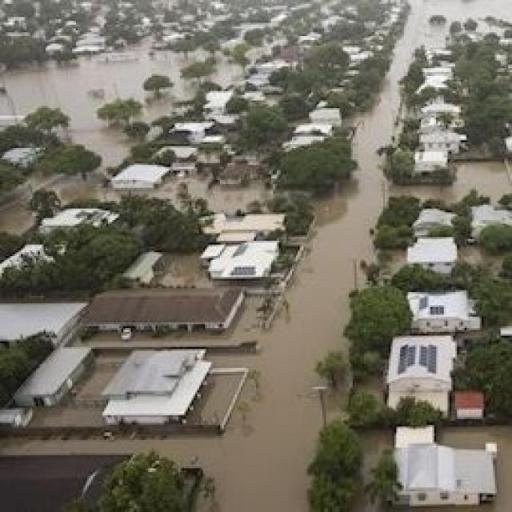flood: (0, 0, 512, 512), (0, 34, 211, 167), (0, 172, 102, 236), (439, 426, 512, 512), (134, 297, 264, 340), (385, 161, 512, 204), (178, 172, 274, 213), (350, 428, 395, 512), (133, 72, 200, 124), (95, 172, 182, 210), (186, 374, 242, 425), (75, 357, 124, 397), (159, 254, 209, 286), (458, 242, 504, 274), (30, 409, 103, 427), (210, 51, 244, 89), (208, 353, 257, 368), (390, 250, 406, 276), (90, 333, 120, 340)
house: (100, 348, 230, 427), (88, 284, 248, 333), (393, 438, 497, 508), (384, 332, 454, 418), (10, 345, 94, 406), (0, 299, 89, 353), (404, 289, 484, 334), (202, 243, 286, 283), (196, 210, 290, 243), (35, 203, 119, 235), (0, 242, 53, 284), (406, 236, 464, 274), (469, 202, 512, 239), (111, 162, 168, 188), (412, 206, 458, 238), (453, 388, 488, 424)
